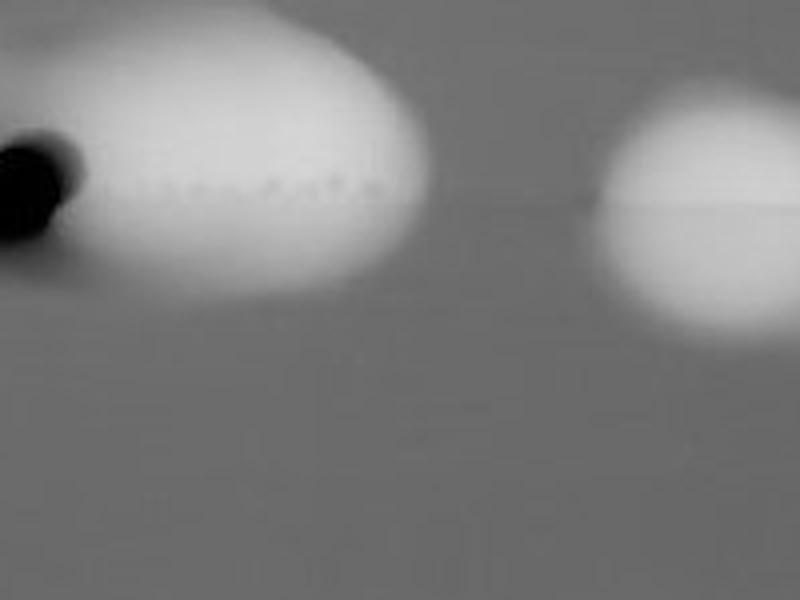defect: (1, 142, 65, 257)
